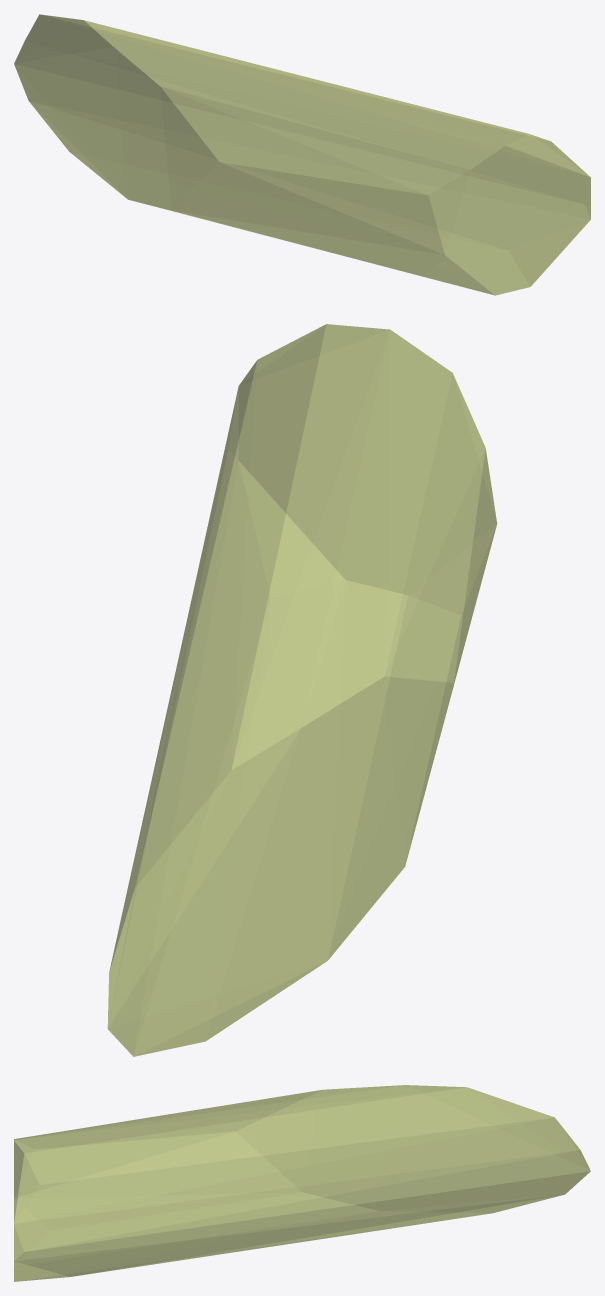
3 views of the same model, one above another, from view 1: azimuth 30°, elevation 25°; view 2: azimuth 150°, elevation 25°; view 3: azimuth 270°, elevation 25° (orthographic). The views are drawn at different scales.
Visible parts, largest first — view 1: Shape_IndexedFaceSet.002_Shape_IndexedFaceSet.4844; view 2: Shape_IndexedFaceSet.002_Shape_IndexedFaceSet.4844; view 3: Shape_IndexedFaceSet.002_Shape_IndexedFaceSet.4844.
Part boxes in pixels (bbox=[...]): Shape_IndexedFaceSet.002_Shape_IndexedFaceSet.4844: bbox=[14, 14, 590, 295]; Shape_IndexedFaceSet.002_Shape_IndexedFaceSet.4844: bbox=[107, 324, 497, 1056]; Shape_IndexedFaceSet.002_Shape_IndexedFaceSet.4844: bbox=[14, 1085, 590, 1281].
Bounding box in the file's own units: 0.074 × 0.045 × 0.1625.
